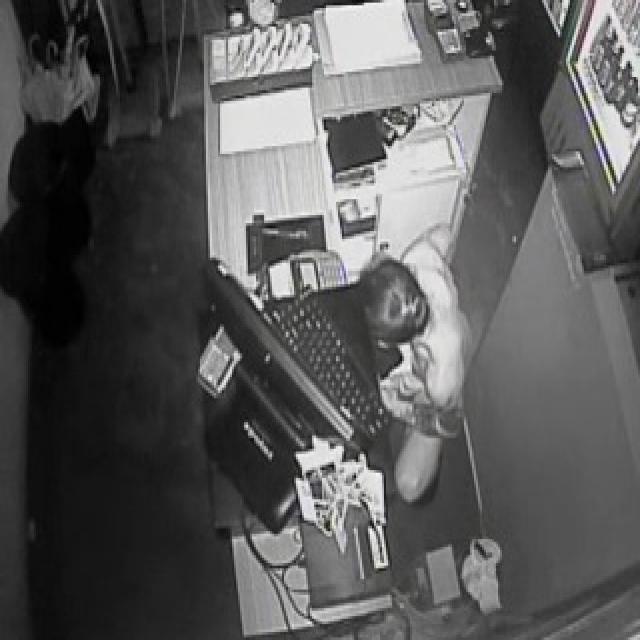thief: (351, 227, 443, 407)
